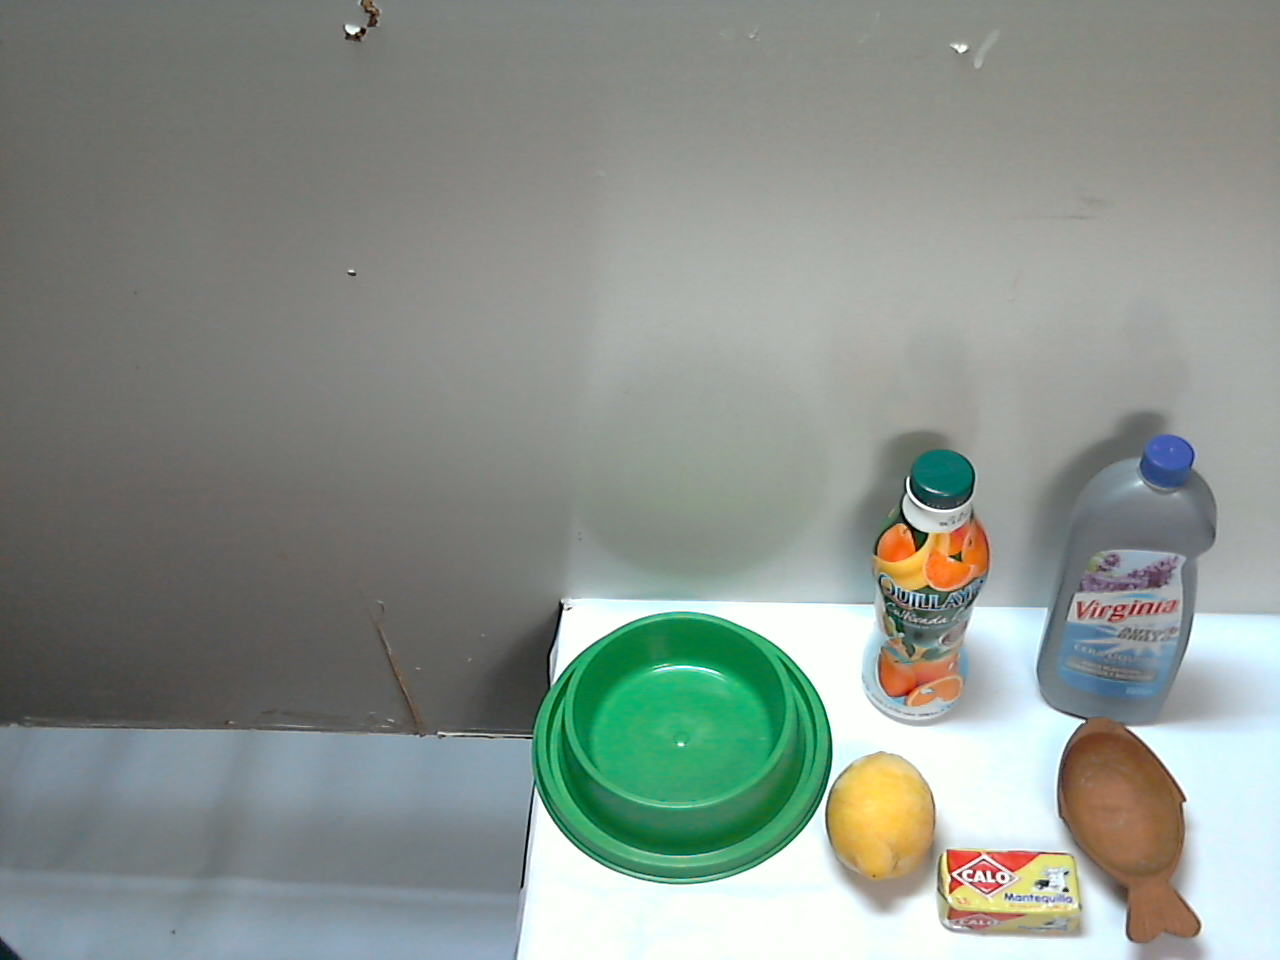cloro: (966, 524, 1157, 788)
coca: (883, 651, 988, 841)
guante: (460, 592, 715, 960)
linterna: (989, 804, 1170, 960)
mostaza: (692, 726, 804, 894)
papas: (760, 488, 910, 782)
